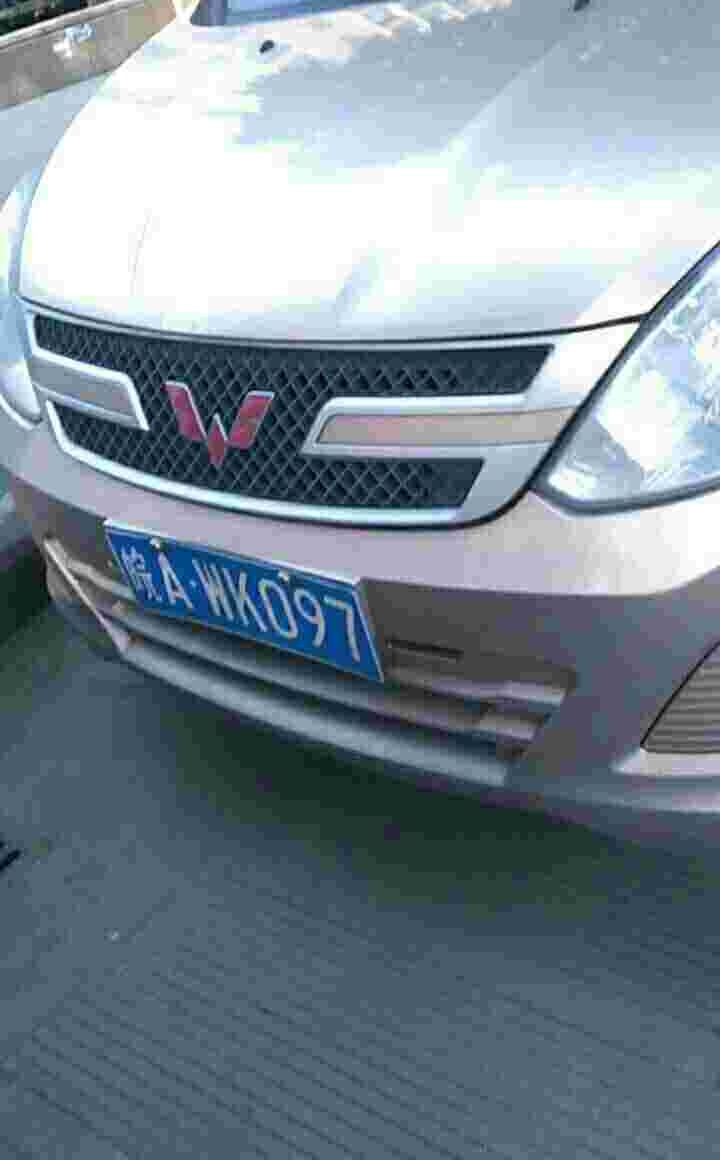car: (103, 523, 372, 658)
